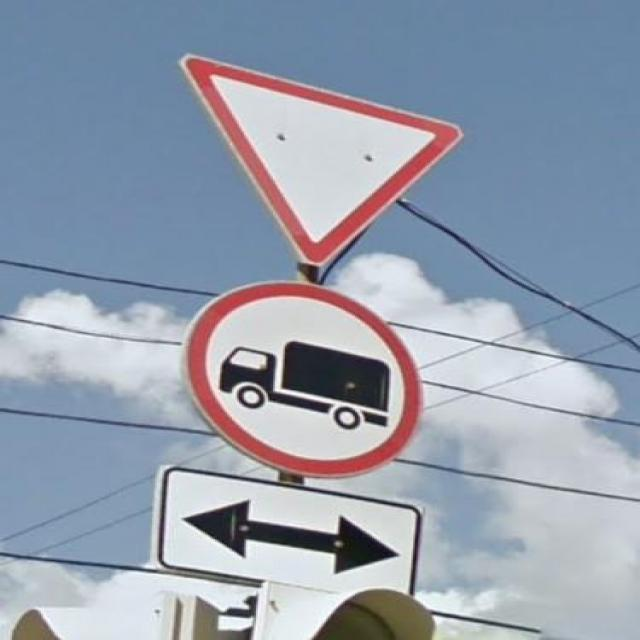Ustap pierwszenstwa: (178, 52, 462, 269)
